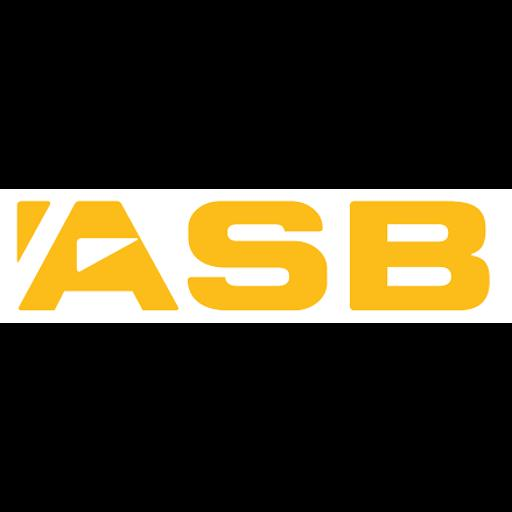ASB Bank Limited: (0, 189, 512, 323)
